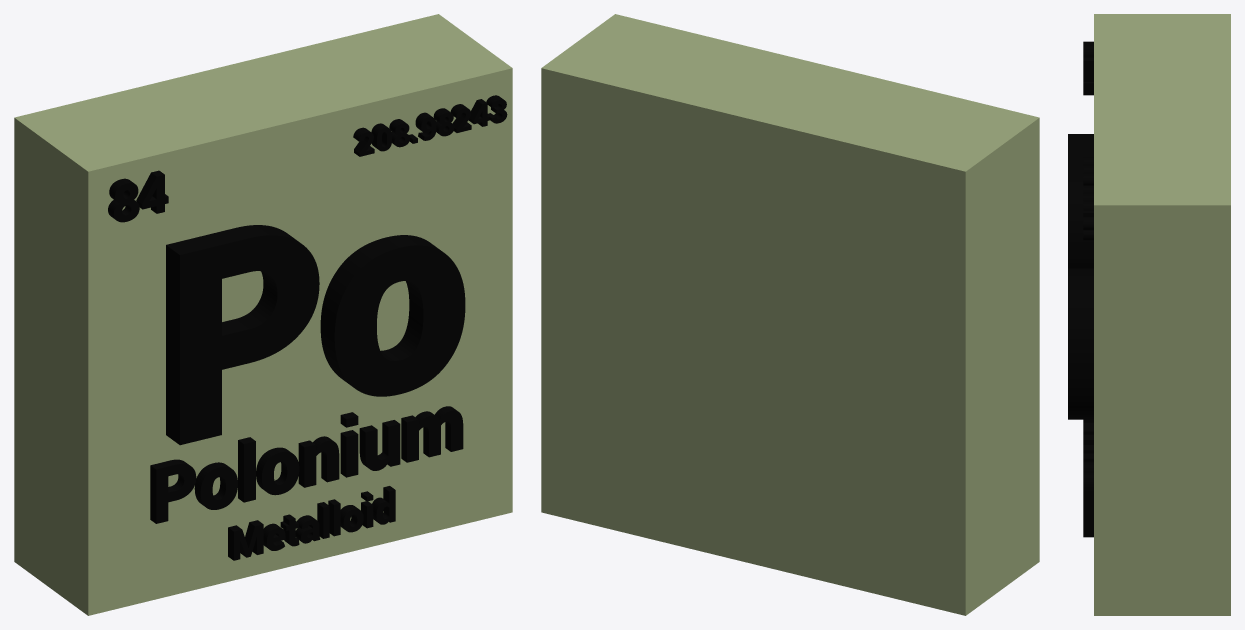
3 renders of one model, left to right at view 1: azimuth 30°, elevation 25°; view 2: azimuth 150°, elevation 25°; view 3: azimuth 270°, elevation 25°, orthographic. The views are drawn at different scales.
Parts seen in each view (by area): view 1: Cube, Text, Text.001, Text.002, Text.004, Text.003; view 2: Cube; view 3: Cube, Text, Text.001, Text.004, Text.003, Text.002.
Part boxes in pixels (x1,y1,x2,y2): Cube: (14,14,512,615); Text: (166,225,465,445); Text.001: (150,406,463,523); Text.002: (228,486,395,560); Text.004: (353,95,507,156); Text.003: (108,170,168,222); Cube: (541,14,1039,615); Cube: (1094,14,1230,615); Text: (1068,134,1093,419); Text.001: (1083,419,1093,516); Text.004: (1083,157,1093,240); Text.003: (1083,41,1093,95); Text.002: (1083,516,1093,537).
Size of the model in its own units: 178 by 178 by 63.95.
